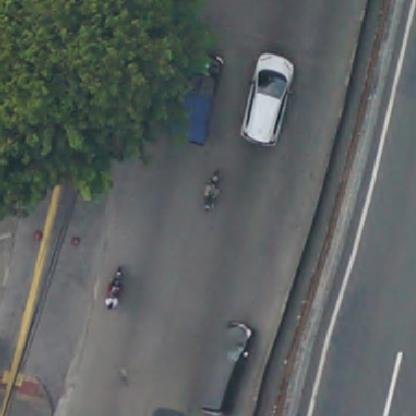car: (208, 323, 254, 411), (245, 53, 285, 147)
motorcycle: (103, 267, 125, 308), (202, 173, 220, 206)
truck: (176, 55, 220, 149)
